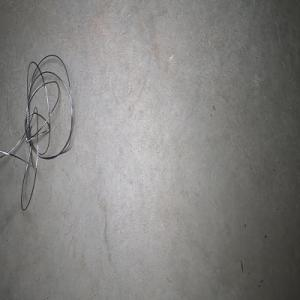Wire: (0, 54, 73, 210)
